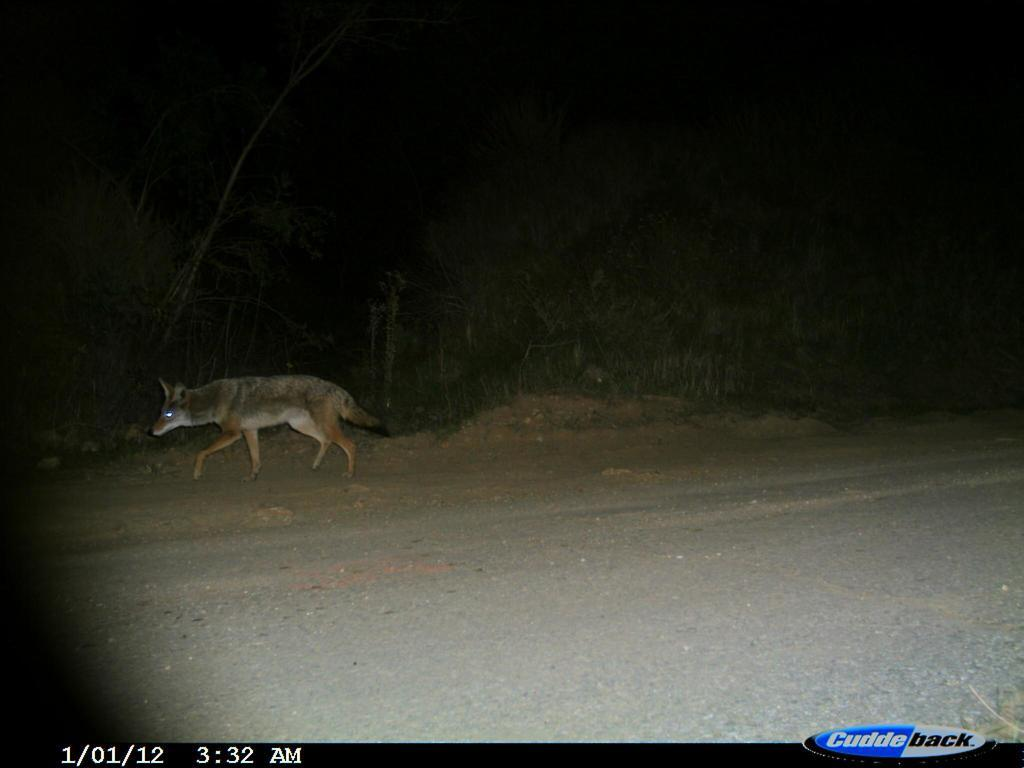coyote: (148, 365, 387, 480)
